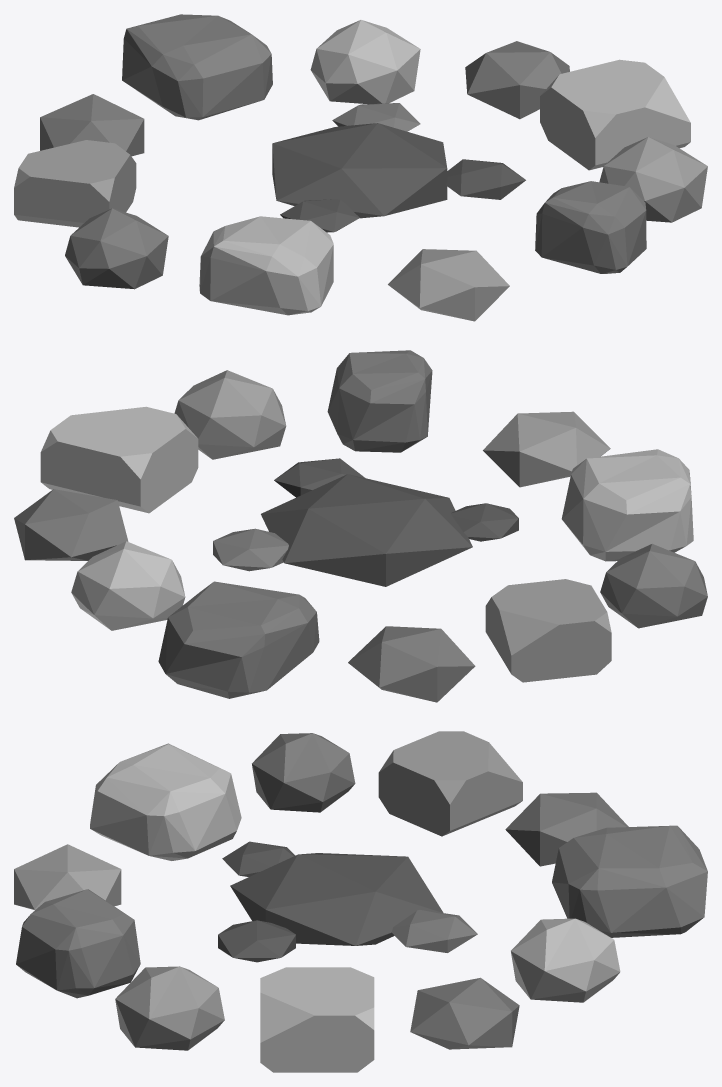
The model's file is bonfire_8.fbx.
3 renders of one model, top to bottom at view 1: azimuth 30°, elevation 25°; view 2: azimuth 150°, elevation 25°; view 3: azimuth 270°, elevation 25°, orthographic. The views are drawn at different scales.
Visible parts, largest first — view 1: bonfire_8; view 2: bonfire_8; view 3: bonfire_8.
Part boxes in pixels (x1,y1,x2,y2): bonfire_8: [14, 14, 707, 321]; bonfire_8: [14, 350, 707, 702]; bonfire_8: [14, 731, 707, 1072].
Bounding box in the file's own units: 138 × 15.7 × 135.
1 material, 1 textured.
